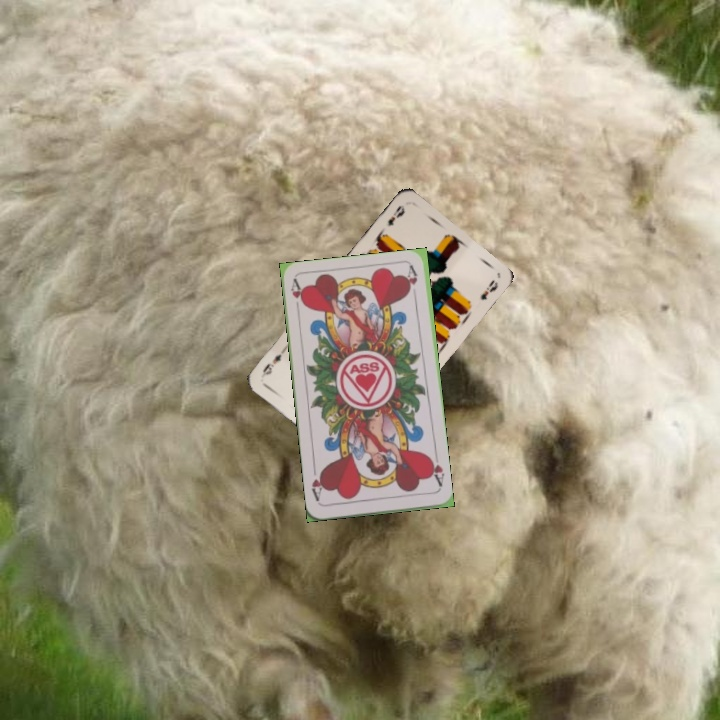E9: (384, 201, 407, 229)
HA: (425, 451, 447, 491), (286, 276, 307, 317)
